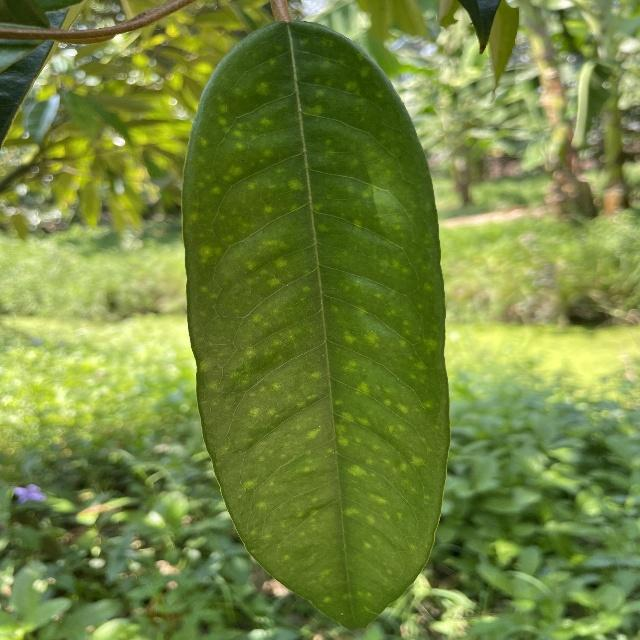Leaf Spot: (177, 13, 466, 640)
